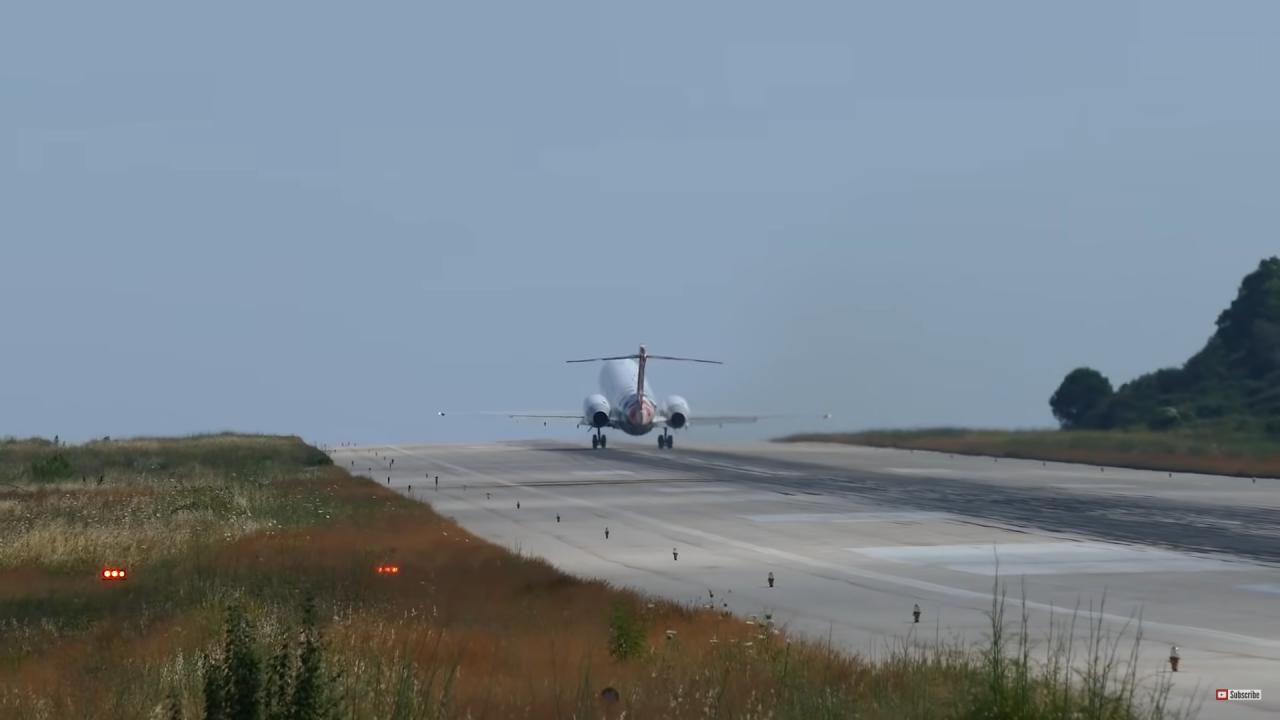Airplane: (422, 340, 849, 461)
